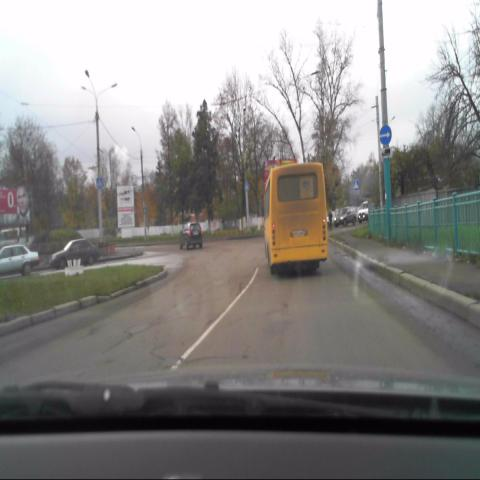4_1_2_1: (378, 123, 392, 148)
